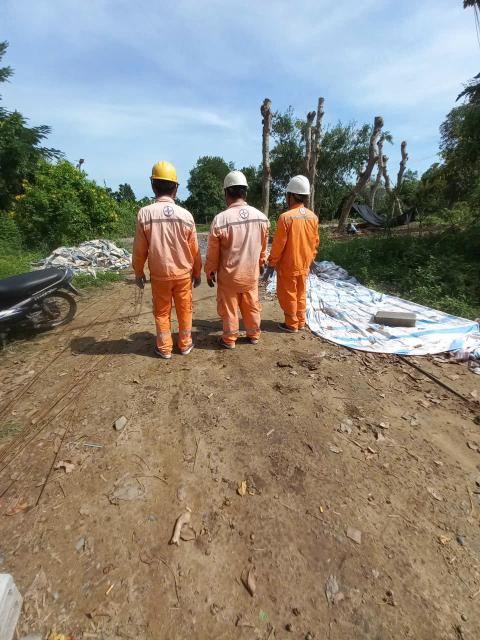gloves: (115, 267, 156, 291), (182, 255, 205, 289), (261, 256, 281, 292), (203, 259, 222, 296), (305, 245, 322, 284), (252, 247, 264, 287)
helmet: (211, 165, 251, 192), (145, 158, 179, 189), (280, 176, 315, 202)
shoes: (142, 330, 176, 372), (212, 325, 242, 349), (242, 327, 272, 349), (181, 332, 201, 357), (278, 319, 302, 338)
